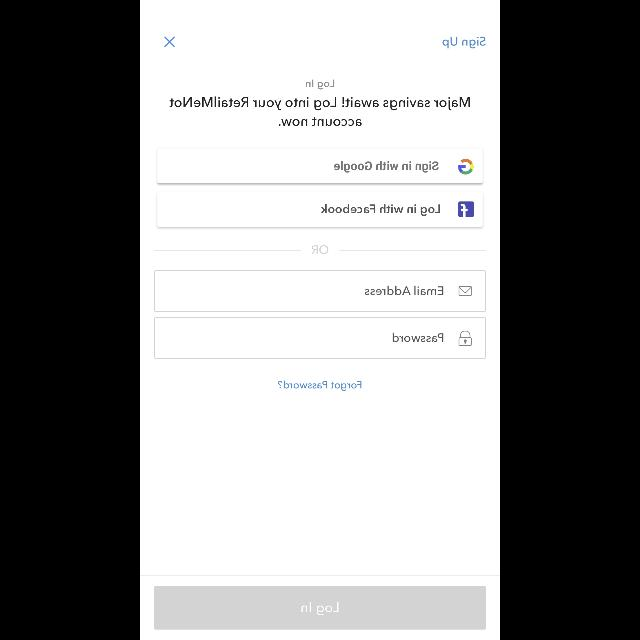icon: (458, 332, 472, 346), (164, 36, 176, 48), (458, 286, 472, 296)
input: (154, 270, 486, 312), (154, 317, 486, 358)
text: (170, 96, 470, 125), (278, 381, 362, 391), (365, 286, 443, 296), (442, 37, 486, 49), (392, 333, 443, 343), (306, 79, 334, 89), (312, 246, 328, 254)
textbutton: (154, 586, 486, 630), (158, 148, 482, 184), (158, 192, 482, 226)
